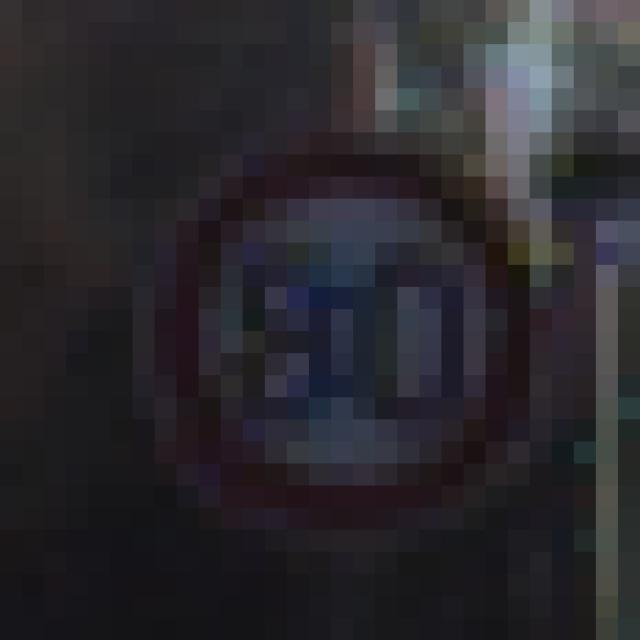Ograniczenie predkosci do 80: (168, 156, 536, 524)
